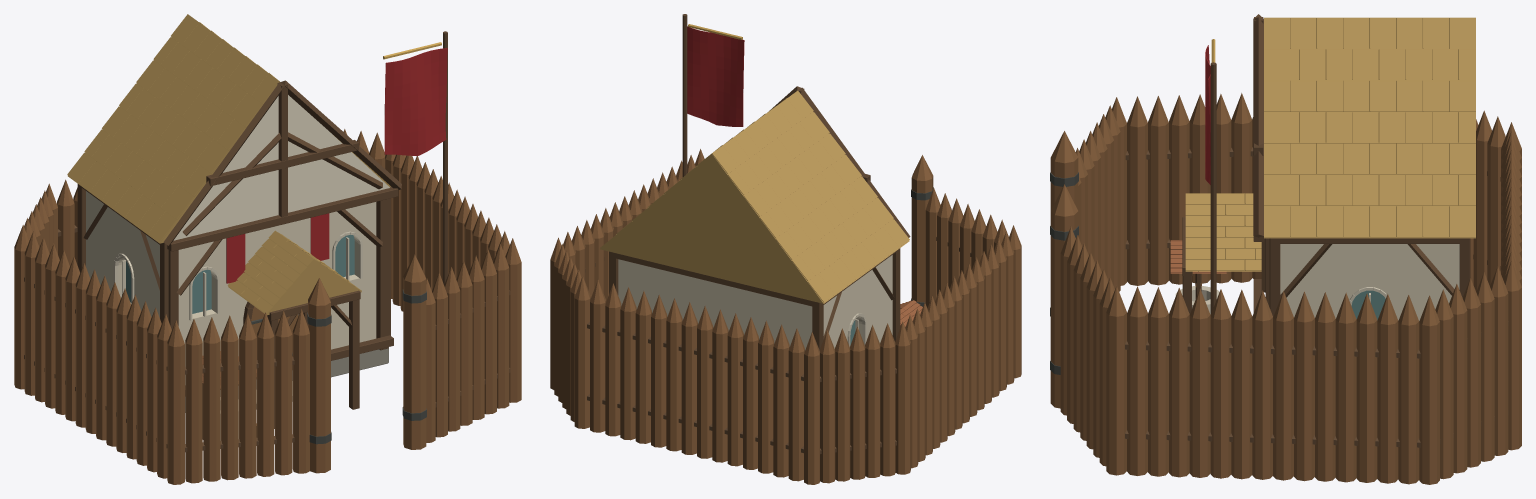
File: settlement.glb
The picture shows the model from 3 angles, left to right: view 1: azimuth 30°, elevation 25°; view 2: azimuth 150°, elevation 25°; view 3: azimuth 270°, elevation 25°; orthographic projection. The views are drawn at different scales.
Visible parts, largest first — view 1: Oak doors, Golden reed thatch, Oak framing, Hall masonry, Hall plaster gable, Settlement order banner, Limestone coping, Realm order cloth, Window glass, Iron fittings, Hall foundation; view 2: Oak doors, Golden reed thatch, Hall masonry, Oak framing, Settlement order banner; view 3: Oak doors, Golden reed thatch, Oak framing, Hall masonry, Settlement order banner, Iron fittings, Window glass, Clay tiles.
Part boxes in pixels (<box>): Oak doors: <box>14,129,521,484</box>; Golden reed thatch: <box>67,14,390,315</box>; Oak framing: <box>24,31,510,452</box>; Hall masonry: <box>86,191,376,384</box>; Hall plaster gable: <box>173,95,389,240</box>; Settlement order banner: <box>384,48,447,156</box>; Limestone coping: <box>113,231,362,440</box>; Realm order cloth: <box>226,213,329,283</box>; Window glass: <box>126,234,354,313</box>; Iron fittings: <box>251,289,426,444</box>; Hall foundation: <box>185,347,388,412</box>; Oak doors: <box>550,149,1021,484</box>; Golden reed thatch: <box>600,90,909,303</box>; Hall masonry: <box>618,255,892,350</box>; Oak framing: <box>585,14,971,454</box>; Settlement order banner: <box>687,26,744,126</box>; Oak doors: <box>1050,93,1521,484</box>; Golden reed thatch: <box>1185,17,1475,271</box>; Oak framing: <box>1125,14,1508,447</box>; Hall masonry: <box>1280,244,1459,320</box>; Settlement order banner: <box>1205,45,1210,184</box>; Iron fittings: <box>1050,172,1078,374</box>; Window glass: <box>1351,290,1385,320</box>; Clay tiles: <box>1170,240,1226,273</box>.
Bounding box in the file's own units: 1.38 × 1.16 × 1.27.
